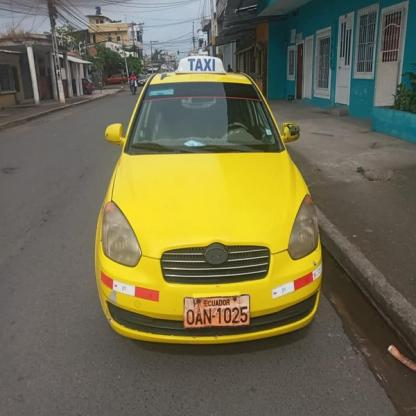Placa: (178, 293, 254, 334)
